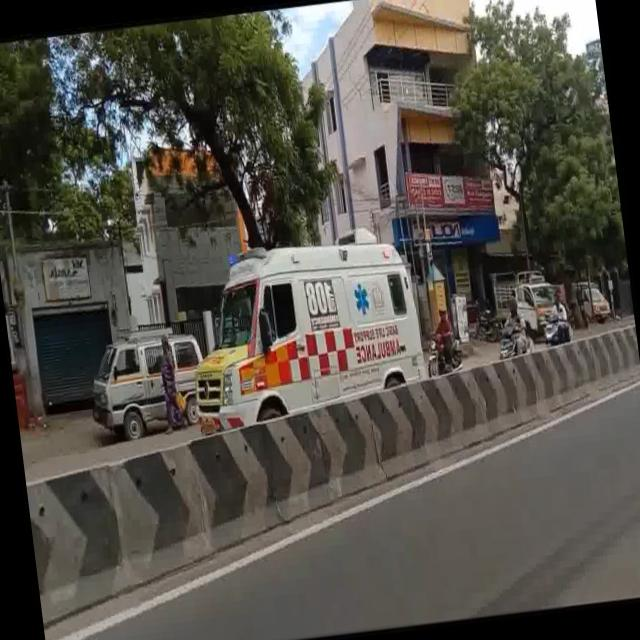ambulance: (179, 218, 434, 440)
